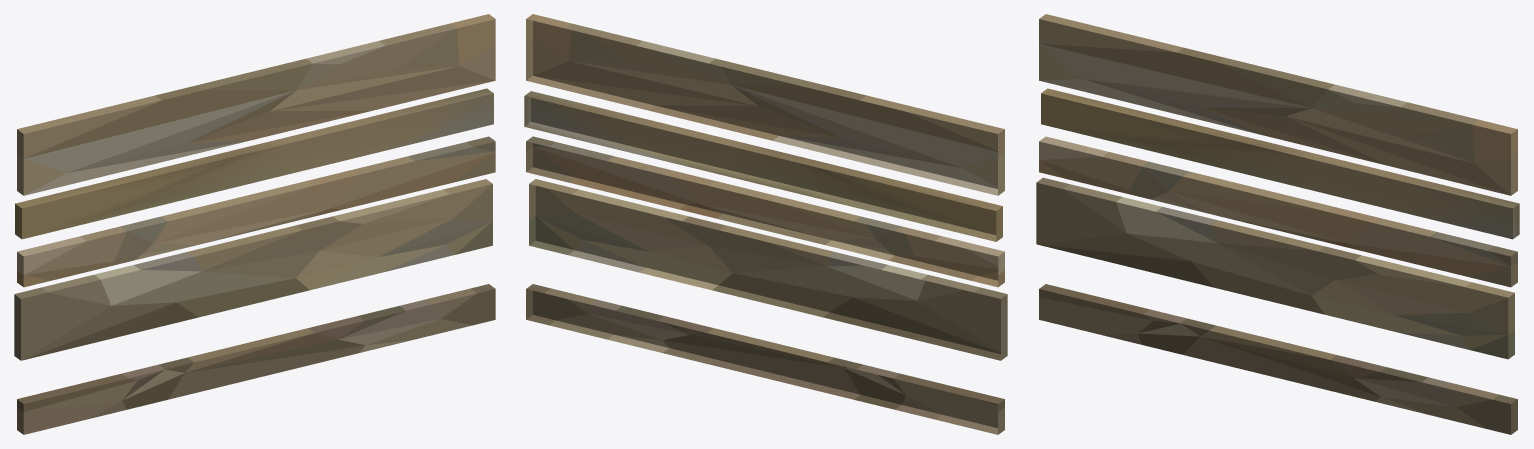
File: Wall_UG-BoardsC.fbx
3 renders of one model, left to right at view 1: azimuth 30°, elevation 25°; view 2: azimuth 150°, elevation 25°; view 3: azimuth 330°, elevation 25°, orthographic.
Visible parts, largest first — view 1: Wall_UG-BoardsC; view 2: Wall_UG-BoardsC; view 3: Wall_UG-BoardsC.
Part boxes in pixels (bbox=[...]): Wall_UG-BoardsC: bbox=[14, 14, 495, 434]; Wall_UG-BoardsC: bbox=[524, 14, 1007, 434]; Wall_UG-BoardsC: bbox=[1036, 14, 1519, 434].
Bounding box in the file's own units: 402 × 244 × 12.69.
